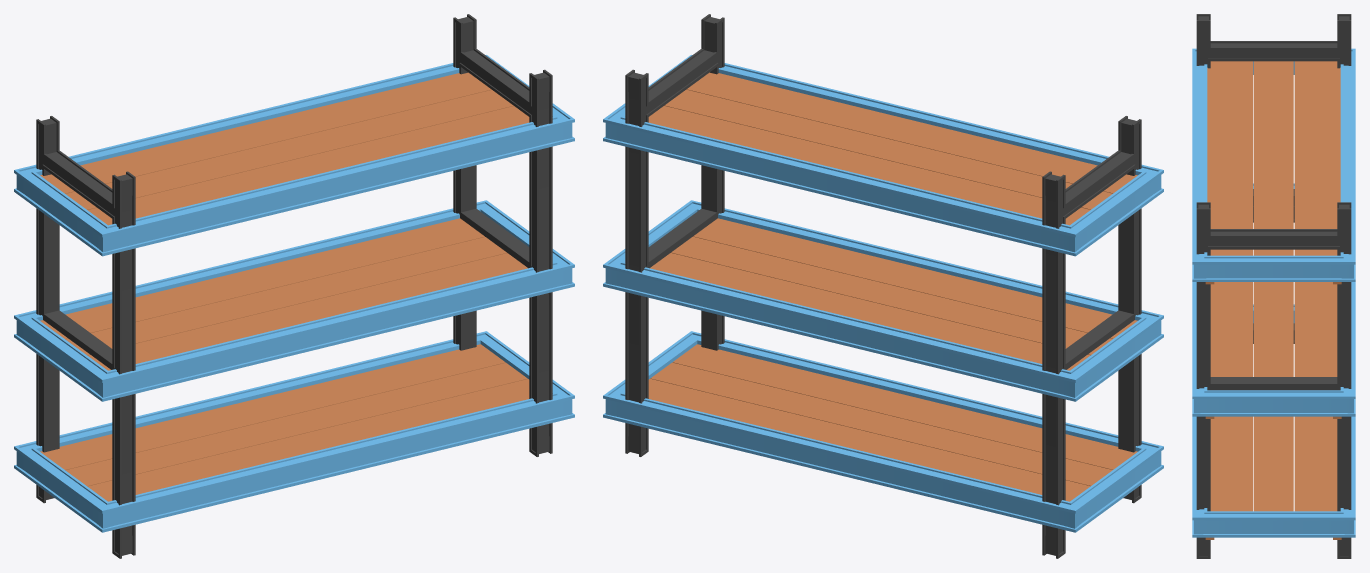
Rendered from Props_BoxShelf_Blue.fbx.
3 renders of one model, left to right at view 1: azimuth 30°, elevation 25°; view 2: azimuth 150°, elevation 25°; view 3: azimuth 270°, elevation 25°, orthographic. The views are drawn at different scales.
Parts seen in each view (by area): view 1: Props_BoxShelf_Blue; view 2: Props_BoxShelf_Blue; view 3: Props_BoxShelf_Blue.
Boxes of the visible parts, x1,y1,x2,y2 form: Props_BoxShelf_Blue: (14,14,574,558); Props_BoxShelf_Blue: (603,14,1163,558); Props_BoxShelf_Blue: (1192,14,1355,558).
Bounding box in the file's own units: 340 × 260 × 110.
